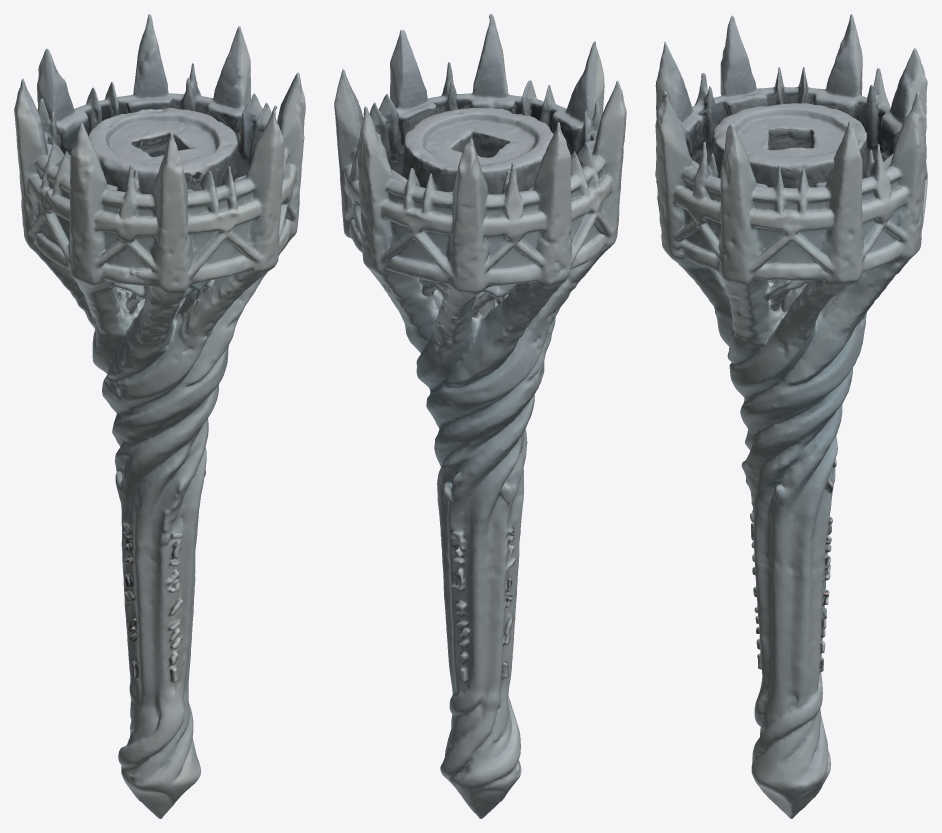
File: torch.glb
3 renders of one model, left to right at view 1: azimuth 30°, elevation 25°; view 2: azimuth 150°, elevation 25°; view 3: azimuth 270°, elevation 25°, orthographic.
Visible parts, largest first — view 1: Mesh_0; view 2: Mesh_0; view 3: Mesh_0.
Part boxes in pixels (left/top/right/bottom): Mesh_0: left=14, top=14, right=305, bottom=818; Mesh_0: left=334, top=14, right=626, bottom=818; Mesh_0: left=655, top=14, right=927, bottom=818.
Bounding box in the file's own units: 0.6235 × 1.9 × 0.623.
Materials: 1 (1 with a texture image).
